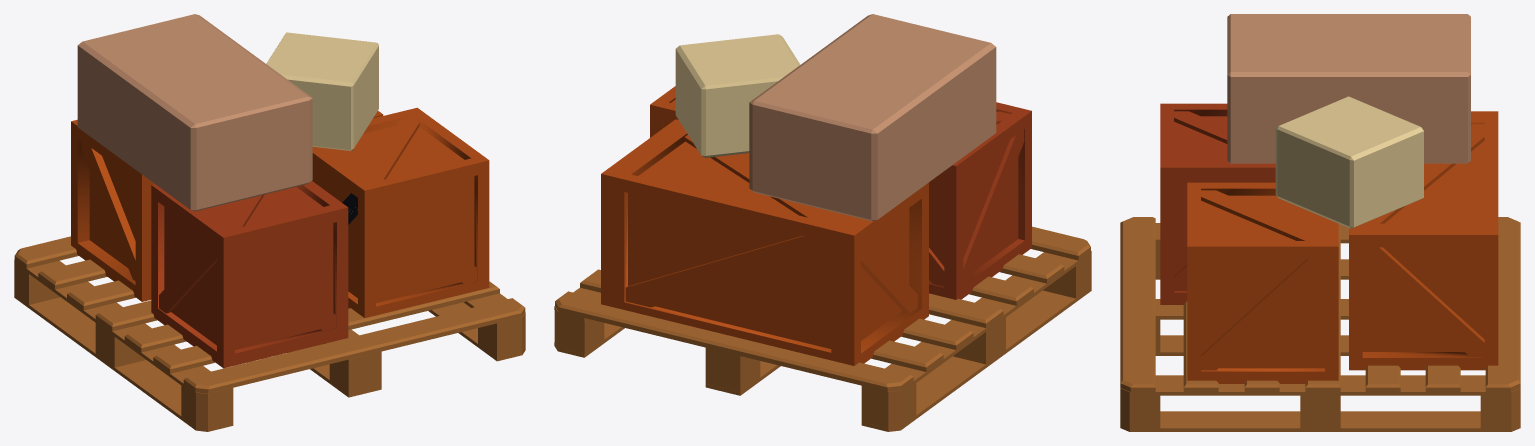
Rendered from Prop_Pallet_WB_B.fbx.
3 views of the same model, side by side, from view 1: azimuth 30°, elevation 25°; view 2: azimuth 150°, elevation 25°; view 3: azimuth 270°, elevation 25° (orthographic). The views are drawn at different scales.
Parts seen in each view (by area): view 1: Prop_Pallet_WB_B; view 2: Prop_Pallet_WB_B; view 3: Prop_Pallet_WB_B.
Part boxes in pixels (x1=…): Prop_Pallet_WB_B: x1=14, y1=14, x2=525, y2=431; Prop_Pallet_WB_B: x1=554, y1=14, x2=1091, y2=431; Prop_Pallet_WB_B: x1=1120, y1=14, x2=1520, y2=431.
Size of the model in its own units: 177 by 177 by 133.
